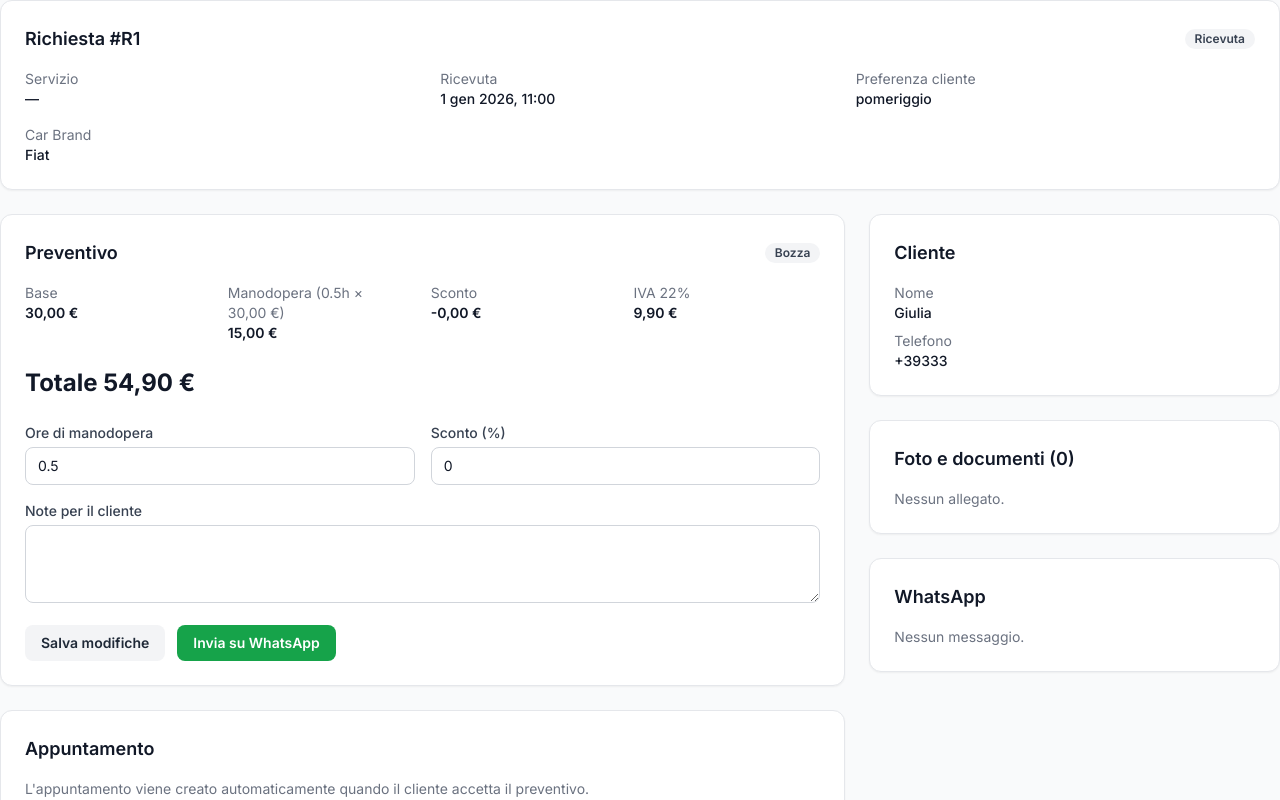
Test: RequestDetail › sends the quote and keeps the confirmation visible after the refetch
Click the button "Invia su WhatsApp".
click(257, 643)  # box [177, 625, 336, 661]
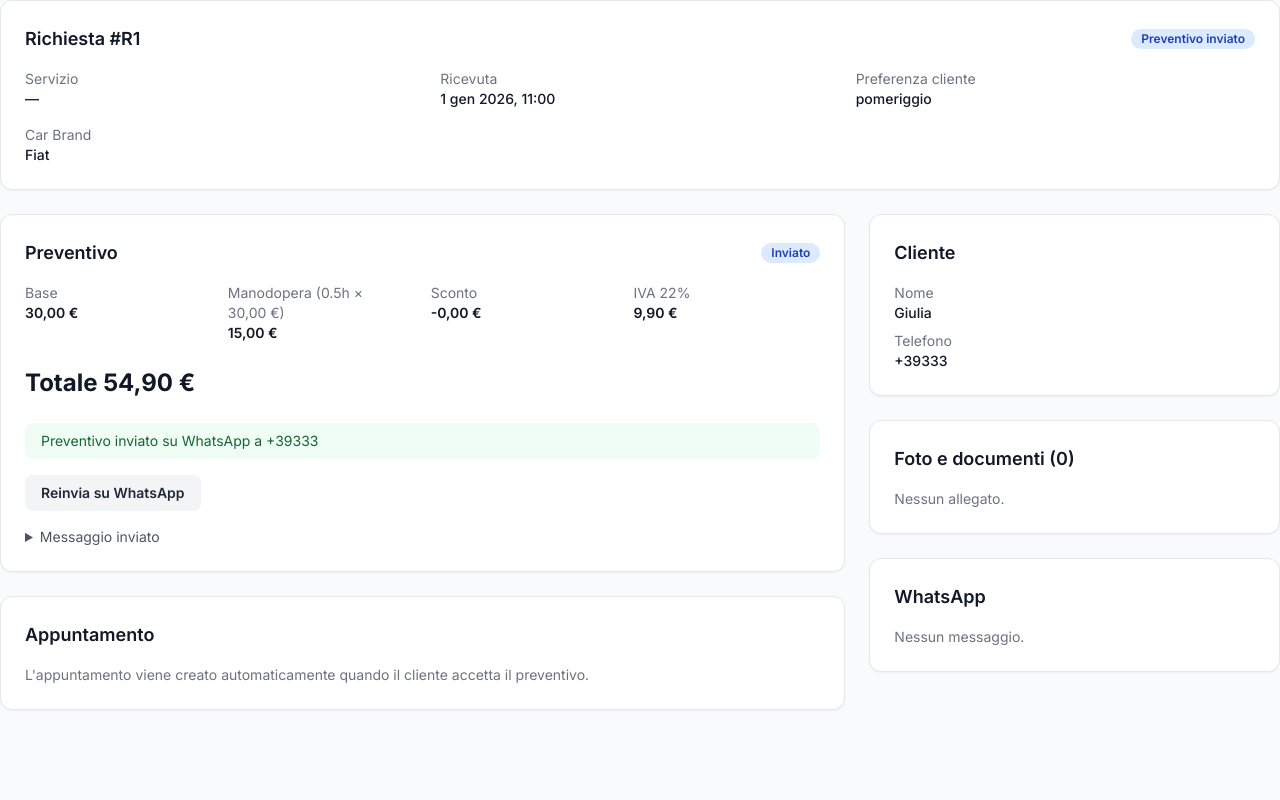
Expected: the text "Preventivo inviato su WhatsApp a +39333" is shown, [25, 423, 820, 459]
Expected: the text "Preventivo inviato" is shown, [1131, 29, 1255, 49]
Expected: the button "Reinvia su WhatsApp" is shown, [25, 475, 200, 511]
